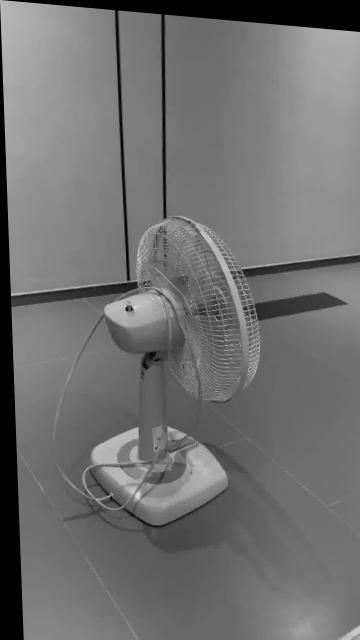Fan: (85, 212, 257, 525)
